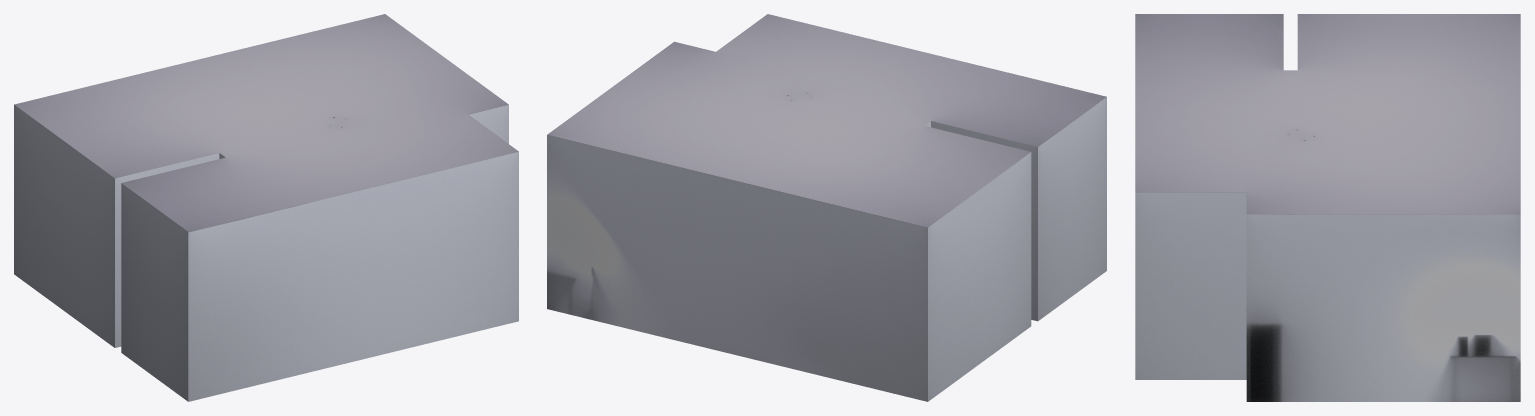
Rendered from Room.gltf.
3 views of the same model, side by side, from view 1: azimuth 30°, elevation 25°; view 2: azimuth 150°, elevation 25°; view 3: azimuth 270°, elevation 25° (orthographic). The views are drawn at different scales.
Parts seen in each view (by area): view 1: Room, Ceiling; view 2: Room, Ceiling; view 3: Ceiling, Room.
Boxes of the visible parts, x1,y1,x2,y2 form: Room: (14, 104, 518, 401); Ceiling: (14, 14, 518, 231); Room: (547, 97, 1106, 401); Ceiling: (547, 14, 1106, 227); Ceiling: (1135, 14, 1520, 214); Room: (1135, 192, 1520, 401).
Size of the model in its own units: 8.66 by 3.79 by 7.05.
2 materials, 2 textured.
